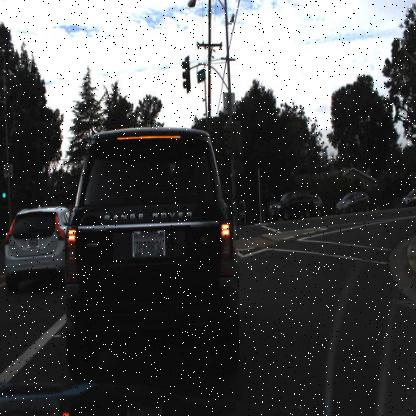car: (62, 126, 239, 368), (3, 204, 73, 288), (268, 188, 316, 223), (334, 188, 372, 216), (307, 191, 325, 219), (401, 187, 415, 208)
trafficLight-Green: (0, 184, 9, 208)
